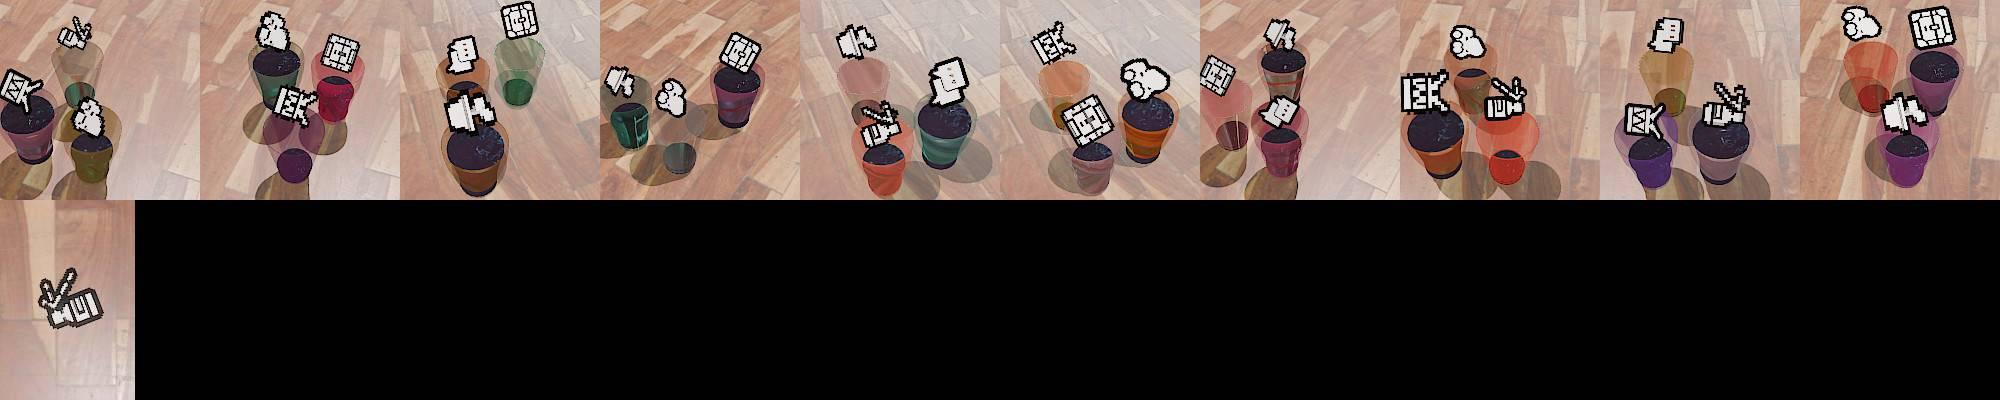icon: (36, 266, 105, 330), (1060, 93, 1114, 148), (1399, 70, 1450, 117), (1702, 82, 1751, 129), (1120, 56, 1171, 102), (1029, 18, 1075, 65), (1879, 92, 1930, 134), (1908, 6, 1955, 51), (927, 57, 969, 107), (445, 96, 497, 135), (1483, 74, 1528, 120), (718, 31, 763, 74), (855, 99, 901, 140), (272, 84, 318, 125), (0, 68, 43, 110), (834, 22, 879, 61), (320, 32, 360, 74), (499, 1, 540, 41), (1200, 54, 1236, 97), (1622, 102, 1665, 138), (445, 34, 481, 76), (73, 94, 107, 138), (1841, 6, 1881, 42), (1259, 93, 1300, 129), (1449, 23, 1487, 60), (1648, 15, 1684, 55), (256, 10, 291, 51), (656, 76, 687, 118), (57, 14, 93, 51), (602, 65, 636, 98), (1264, 19, 1297, 52)
